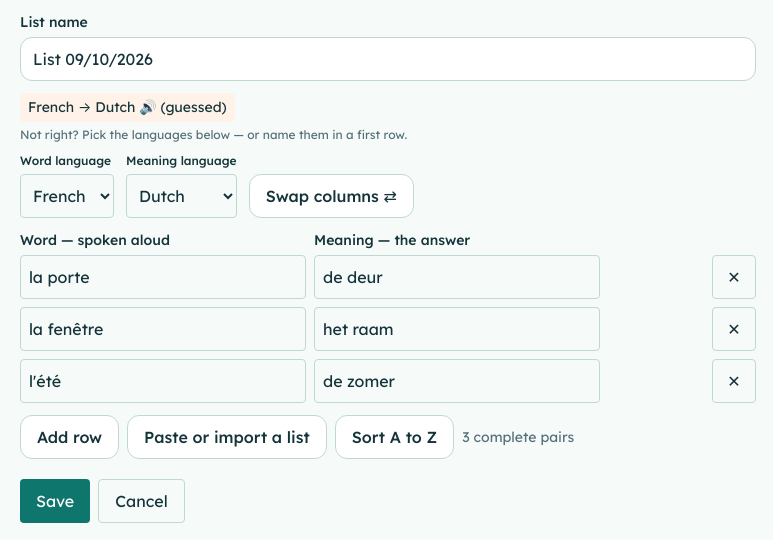
Test case: language selectors › turns the badge authoritative once the user chooses
Expected: the text "French → Dutch 🔊 (guessed)" is shown, [20,93,235,122]
Select "English" in the dropdown labelled "Word language" at (67, 196), box [20,174,114,218]
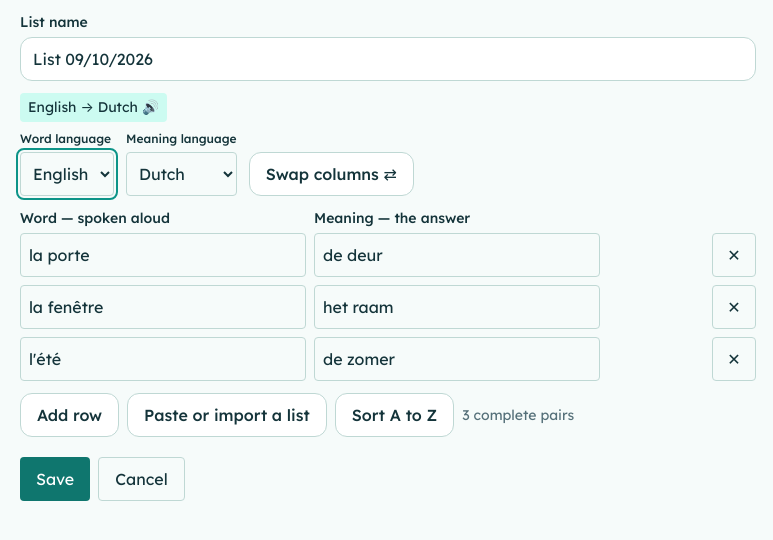
Expected: the text "guessed" is gone
